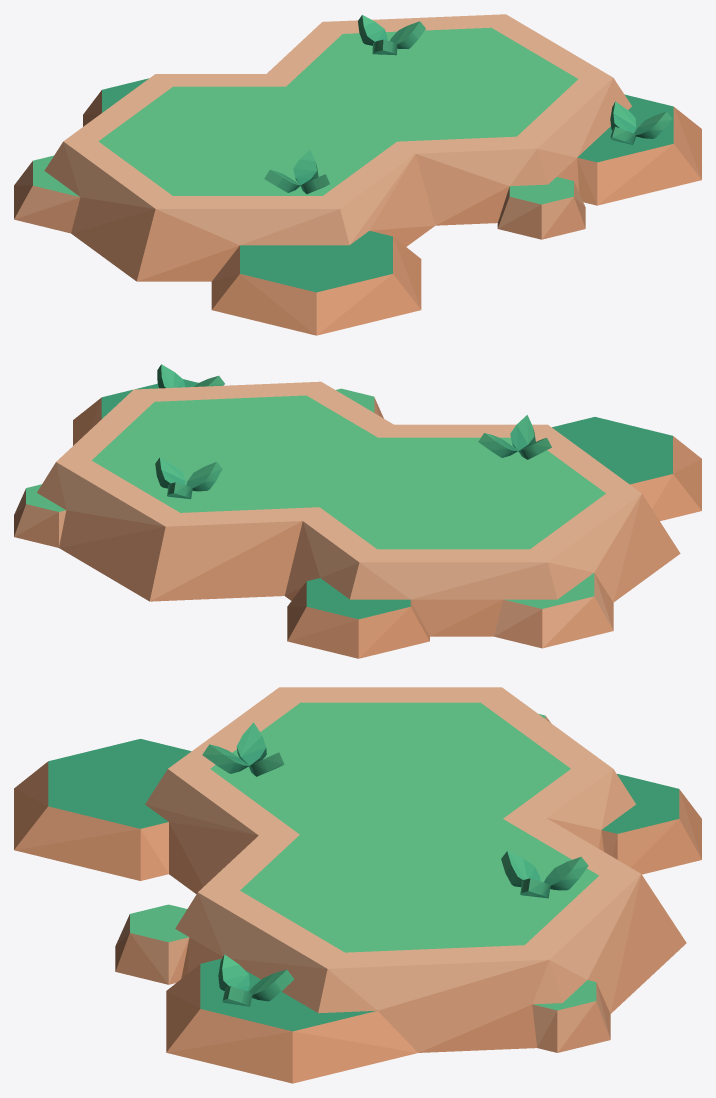
File: rock-flat-grass.glb
The picture shows the model from 3 angles, top to bottom: view 1: azimuth 30°, elevation 25°; view 2: azimuth 150°, elevation 25°; view 3: azimuth 270°, elevation 25°; orthographic projection. The views are drawn at different scales.
Parts seen in each view (by area): view 1: c61cb8b, cefba94, cd7966f, cd18f67, ceab38d, cdc9e77, c3ca579, ce1a680, c5ac487, c47b17e, c4cb581, c41ab7b; view 2: c61cb8b, cd7966f, cefba94, ce1a680, ceab38d, c3ca579, cd18f67, cdc9e77, c5ac487, c47b17e, c4cb581, c50ba83 (+1 smaller); view 3: c61cb8b, cefba94, cd7966f, cd18f67, c3ca579, ceab38d, cdc9e77, ce1a680, c5ac487, c47b17e, c4cb581, c41ab7b (+1 smaller).
Part boxes in pixels (x1=…): c61cb8b: x1=98, y1=27, x2=578, y2=195; cefba94: x1=63, y1=14, x2=612, y2=208; cd7966f: x1=14, y1=90, x2=701, y2=335; cd18f67: x1=83, y1=107, x2=701, y2=335; ceab38d: x1=63, y1=78, x2=612, y2=244; cdc9e77: x1=71, y1=154, x2=508, y2=281; c3ca579: x1=102, y1=26, x2=673, y2=292; ce1a680: x1=14, y1=78, x2=631, y2=245; c5ac487: x1=33, y1=155, x2=573, y2=204; c47b17e: x1=271, y1=21, x2=672, y2=184; c4cb581: x1=264, y1=21, x2=665, y2=189; c41ab7b: x1=276, y1=26, x2=657, y2=193; c61cb8b: x1=92, y1=395, x2=605, y2=549; cd7966f: x1=14, y1=397, x2=701, y2=658; cefba94: x1=56, y1=381, x2=641, y2=562; ce1a680: x1=14, y1=398, x2=612, y2=647; ceab38d: x1=56, y1=462, x2=641, y2=599; c3ca579: x1=101, y1=379, x2=672, y2=619; cd18f67: x1=73, y1=397, x2=701, y2=658; cdc9e77: x1=59, y1=494, x2=641, y2=602; c5ac487: x1=26, y1=388, x2=594, y2=608; c47b17e: x1=155, y1=365, x2=551, y2=496; c4cb581: x1=157, y1=364, x2=545, y2=480; c50ba83: x1=155, y1=375, x2=551, y2=492; c61cb8b: x1=210, y1=702, x2=598, y2=952; cefba94: x1=168, y1=687, x2=640, y2=968; cd7966f: x1=14, y1=716, x2=701, y2=1052; cd18f67: x1=14, y1=788, x2=701, y2=1083; c3ca579: x1=48, y1=739, x2=679, y2=1031; ceab38d: x1=145, y1=769, x2=640, y2=1010; cdc9e77: x1=169, y1=818, x2=641, y2=1052; ce1a680: x1=116, y1=716, x2=635, y2=1052; c5ac487: x1=130, y1=714, x2=596, y2=1010; c47b17e: x1=202, y1=723, x2=588, y2=999; c4cb581: x1=211, y1=722, x2=530, y2=1002; c41ab7b: x1=223, y1=736, x2=562, y2=1006.
Size of the model in its own units: 1.79 by 0.2258 by 1.45.
